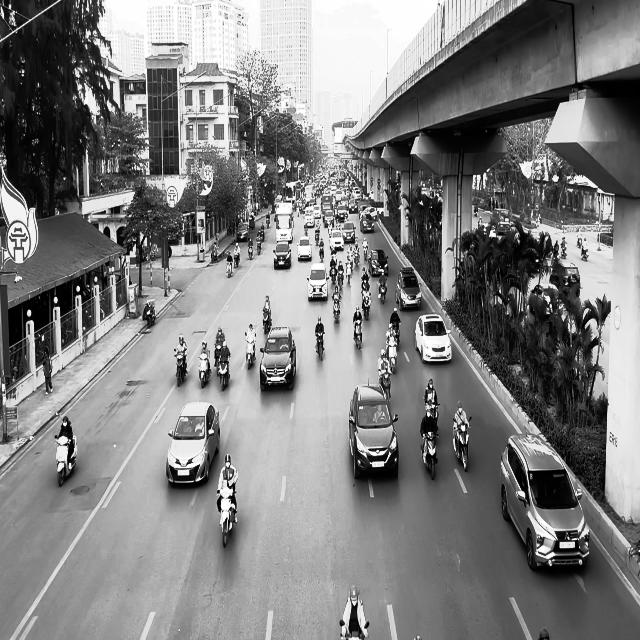car: (499, 432, 590, 571), (348, 380, 399, 479), (166, 401, 220, 485), (260, 325, 296, 391), (414, 313, 452, 363), (395, 266, 422, 310), (306, 262, 328, 301), (273, 241, 291, 269), (297, 236, 312, 260), (236, 222, 249, 241)
motorbike: (217, 487, 237, 548), (54, 434, 77, 486), (452, 416, 471, 472), (420, 428, 439, 480), (339, 620, 369, 640), (173, 348, 187, 386), (197, 352, 211, 388), (216, 355, 230, 390), (244, 331, 256, 369), (143, 299, 156, 327), (315, 330, 324, 360), (353, 320, 362, 350), (332, 293, 340, 323), (262, 307, 271, 333), (226, 258, 233, 278), (581, 244, 588, 261), (248, 240, 253, 259)
